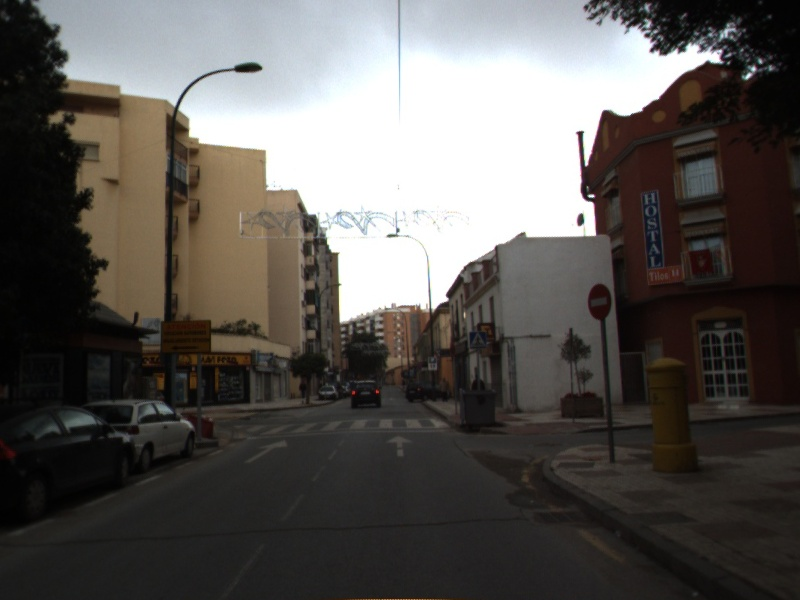STRAIGHT: (241, 437, 291, 465), (384, 433, 415, 458)
